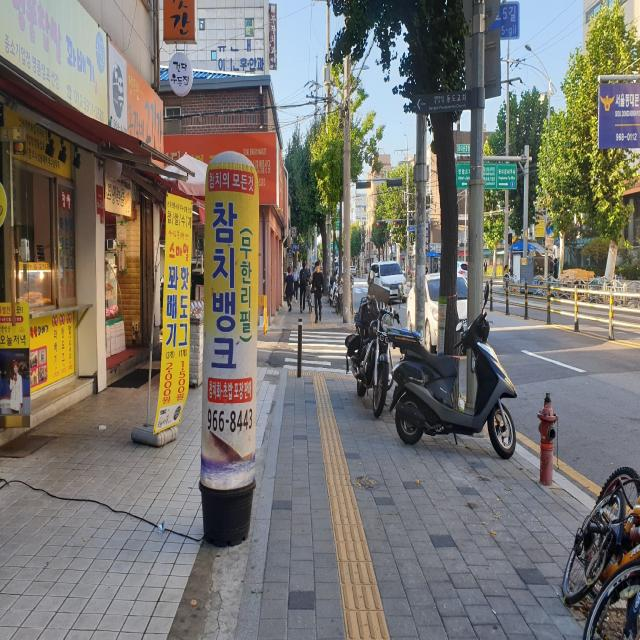횡단보도: (284, 329, 359, 366)
